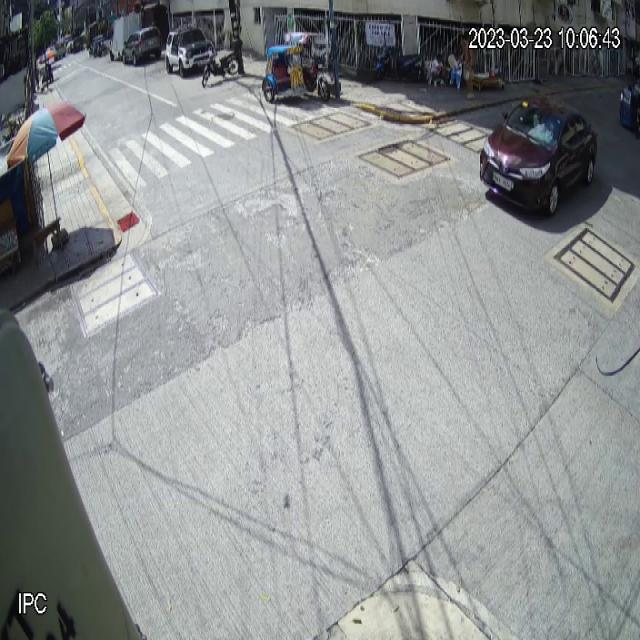Car: (479, 86, 599, 221)
Tricycle: (262, 32, 331, 104)
